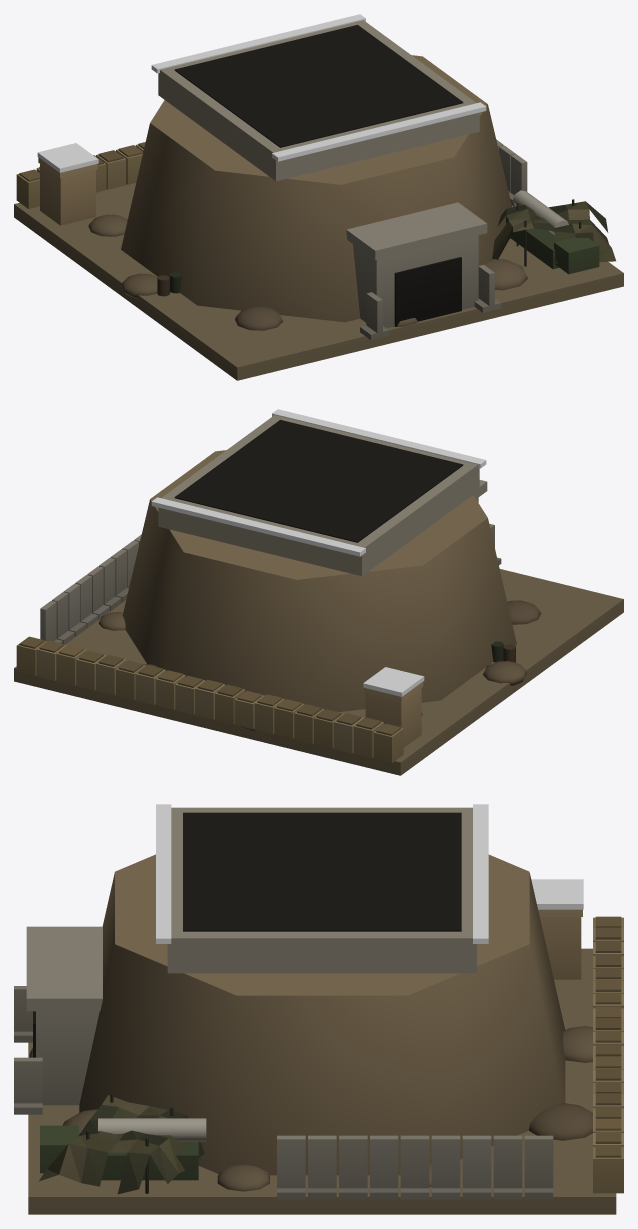
The model's file is m_uplink_bda61460.glb.
3 renders of one model, top to bottom at view 1: azimuth 30°, elevation 25°; view 2: azimuth 150°, elevation 25°; view 3: azimuth 270°, elevation 25°, orthographic. The views are drawn at different scales.
Visible parts, largest first — view 1: mesh; view 2: mesh; view 3: mesh.
Part boxes in pixels (left/top/right/bottom): mesh: left=14, top=14, right=623, bottom=380; mesh: left=14, top=409, right=623, bottom=775; mesh: left=14, top=804, right=623, bottom=1214.
Bounding box in the file's own units: 82.08 × 31.2 × 78.85.
